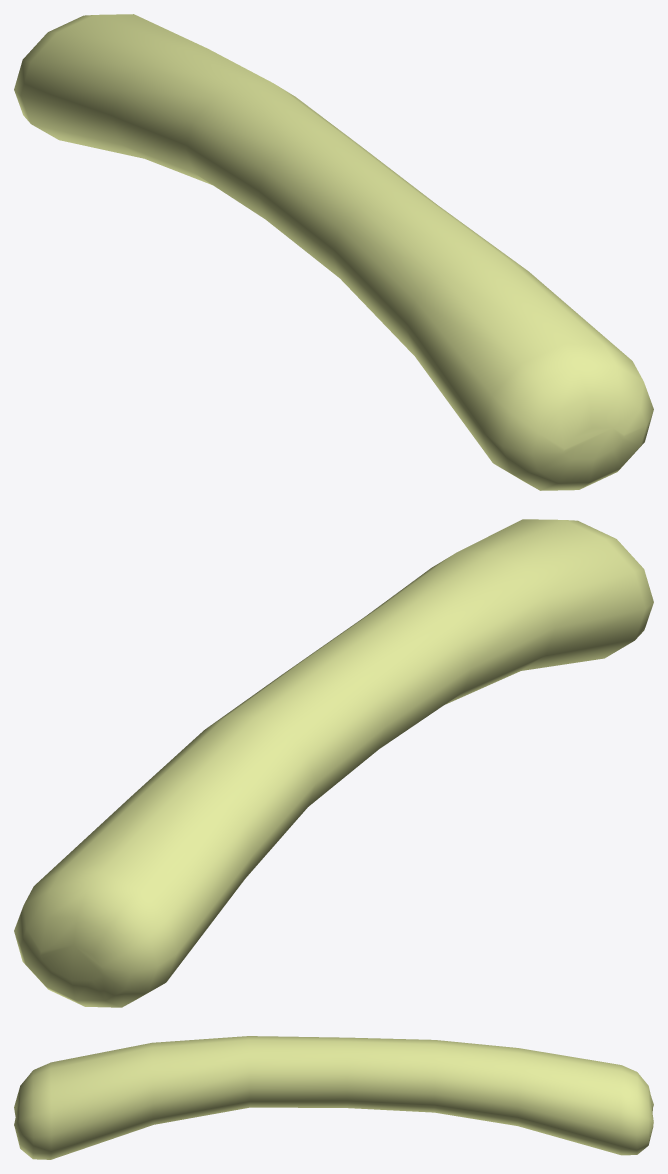
The model's file is Bone4_Bogdan.fbx.
3 renders of one model, top to bottom at view 1: azimuth 30°, elevation 25°; view 2: azimuth 150°, elevation 25°; view 3: azimuth 270°, elevation 25°, orthographic. The views are drawn at different scales.
Visible parts, largest first — view 1: Bone4; view 2: Bone4; view 3: Bone4.
Part boxes in pixels (x1,y1,x2,y2): Bone4: [14, 14, 653, 490]; Bone4: [14, 519, 653, 1007]; Bone4: [14, 1036, 653, 1159].
Size of the model in its own units: 208 by 215 by 1148.
